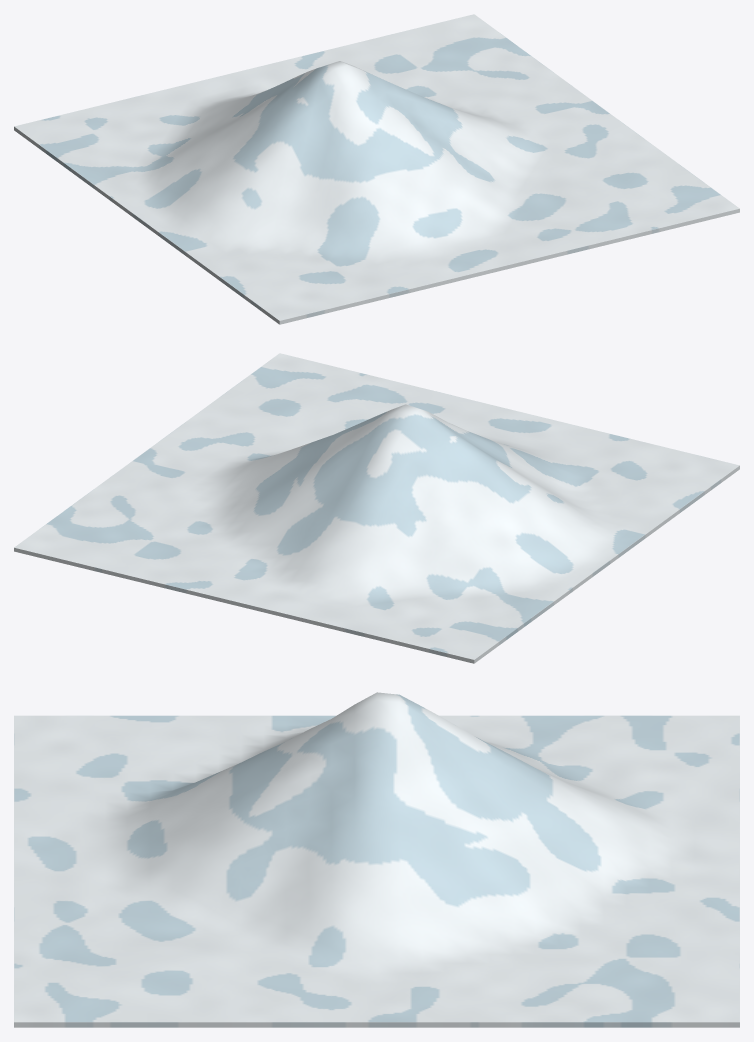
Rendered from Snow_Mountains_03.obj.
The picture shows the model from 3 angles, top to bottom: view 1: azimuth 30°, elevation 25°; view 2: azimuth 150°, elevation 25°; view 3: azimuth 270°, elevation 25°; orthographic projection. The views are drawn at different scales.
Bounding box in the file's own units: 10 × 2.35 × 10.
1 material, 1 textured.
